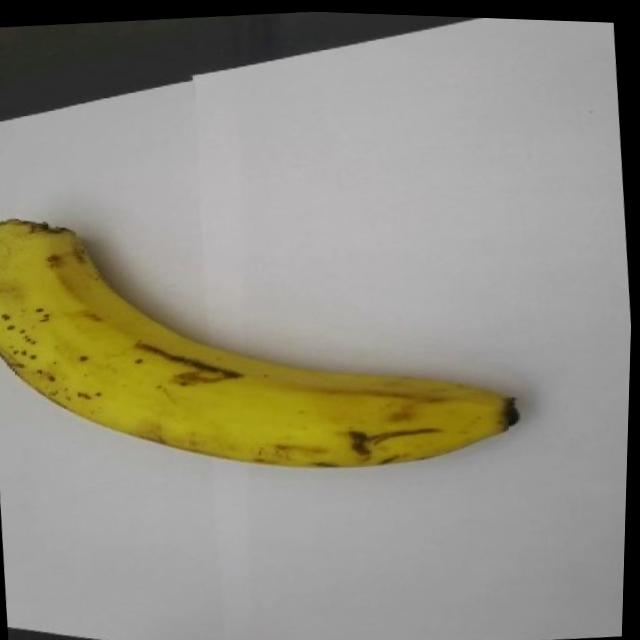Banana: (0, 174, 531, 503)
